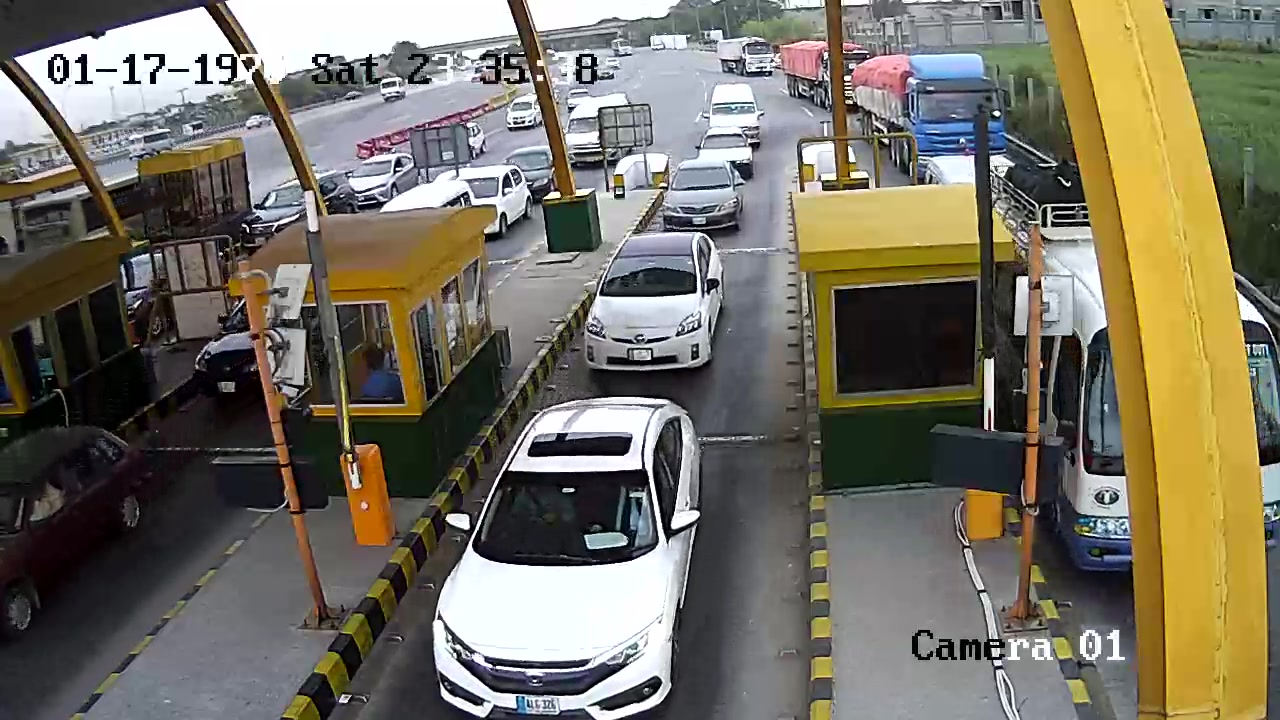F1: (426, 390, 743, 715), (568, 235, 736, 378), (658, 155, 744, 235)
